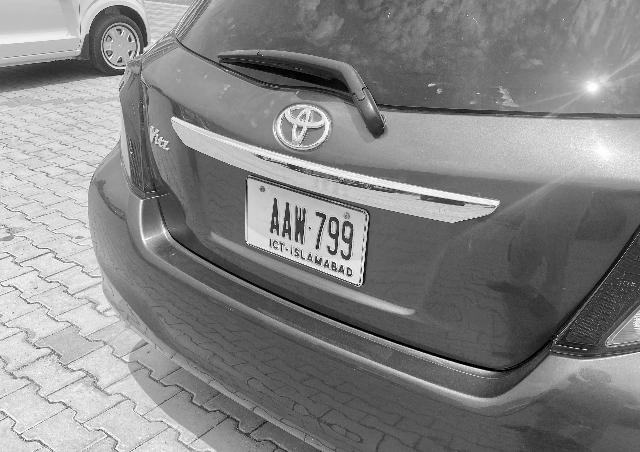Number: (265, 191, 360, 266)
